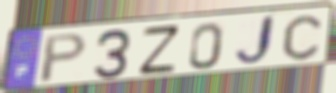0: (187, 21, 227, 71)
3: (90, 27, 133, 81)
C: (281, 13, 324, 62)
J: (231, 13, 278, 69)
P: (37, 32, 91, 86)
Z: (137, 23, 182, 77)
